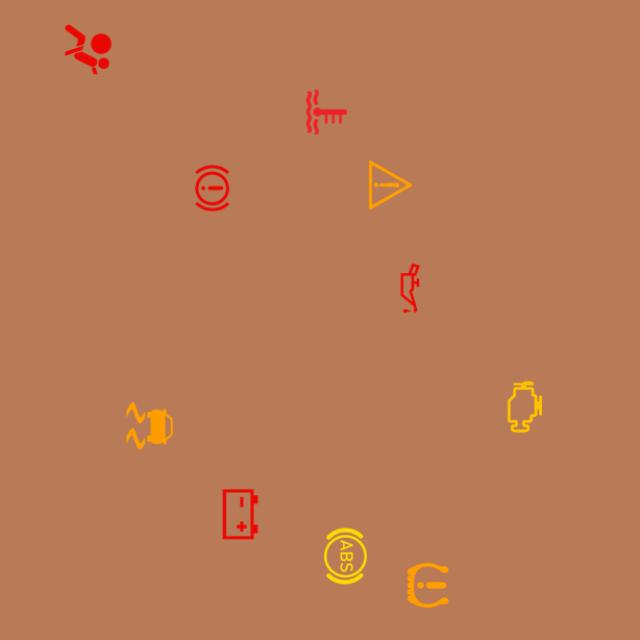Anti Lock Braking System: (315, 525, 376, 587)
Braking System Issue: (181, 157, 243, 219)
Charging System Issue: (210, 484, 271, 545)
Check Engine: (494, 376, 556, 438)
Electronic Stability Problem -ESP-: (119, 395, 180, 457)
Engine Overheating Warning Light: (296, 81, 358, 143)
Low Engine Oil Warning Light: (379, 257, 441, 319)
Low Tire Pressure Warning Light: (397, 555, 459, 616)
Master warning light: (360, 154, 421, 216)
SRS-Airbag: (57, 19, 119, 80)
